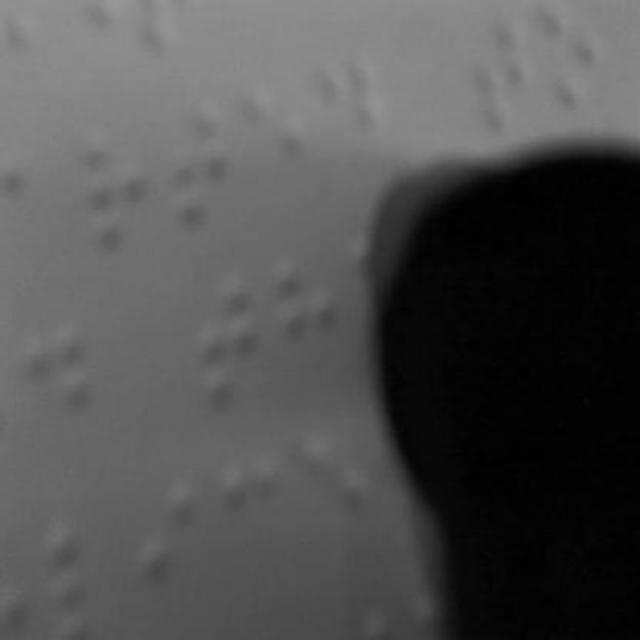braiile: (191, 260, 275, 418), (79, 117, 165, 263), (163, 85, 241, 241), (319, 35, 391, 201), (46, 504, 130, 640), (242, 70, 316, 224), (279, 248, 351, 402), (28, 314, 102, 458), (130, 477, 206, 617), (469, 8, 541, 140), (545, 1, 609, 125)
